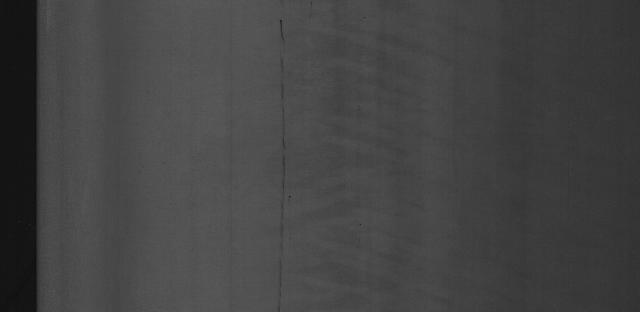inclusion: (261, 8, 303, 300)
water_spot: (320, 23, 417, 283)
